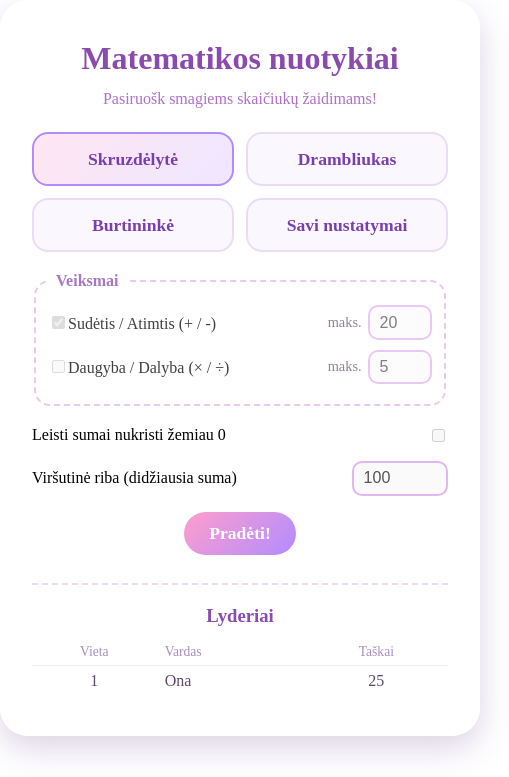
Test case: SettingsScreen leaderboard panel › shows the selected preset's board and reloads when the preset changes
The width and height of the screenshot is (509, 777).
Check: the text "Ona" is shown, box left=157, top=665, right=305, bottom=696
Click the radio button labelled "Drambliukas".
click(347, 159)  # box left=246, top=132, right=448, bottom=186
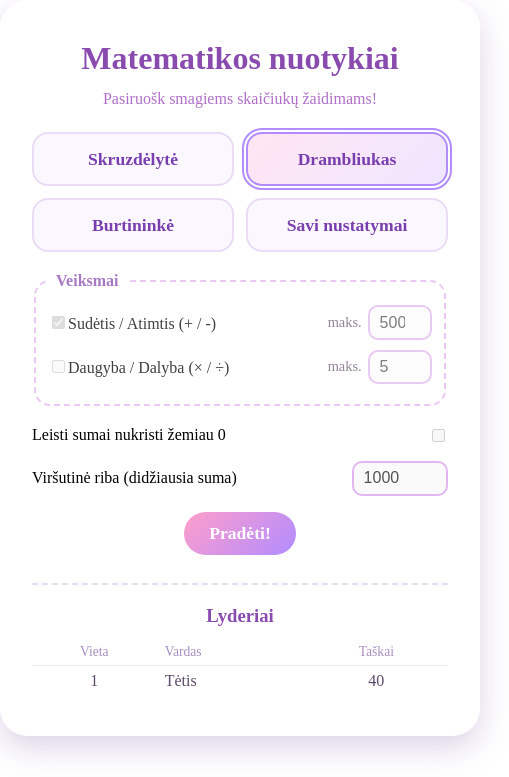
Check: the text "Tėtis" is shown, box left=157, top=665, right=305, bottom=696
Check: the text "Ona" is gone
